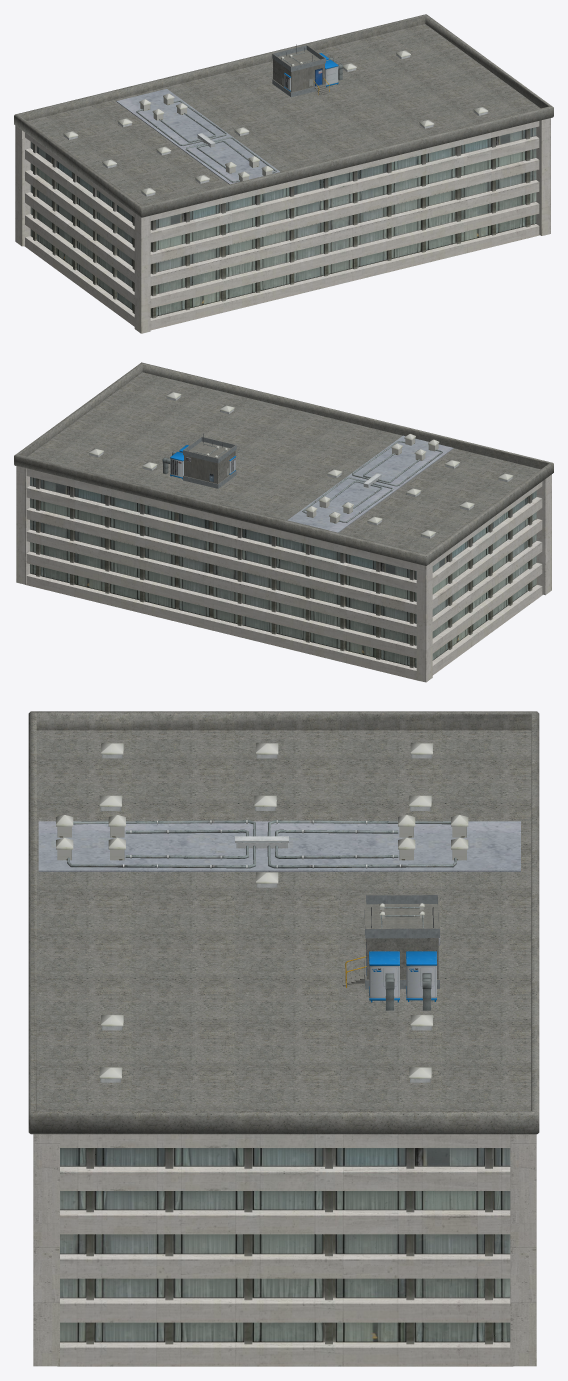
Rendered from u2NBuild6.gltf.
3 views of the same model, one above another, from view 1: azimuth 30°, elevation 25°; view 2: azimuth 150°, elevation 25°; view 3: azimuth 270°, elevation 25° (orthographic). The views are drawn at different scales.
Visible parts, largest first — view 1: u2NBuild6; view 2: u2NBuild6; view 3: u2NBuild6.
Boxes of the visible parts, bbox=[...] form: u2NBuild6: bbox=[14, 14, 553, 333]; u2NBuild6: bbox=[14, 362, 553, 682]; u2NBuild6: bbox=[28, 711, 539, 1366].
Size of the model in its own units: 21.47 by 7.7 by 11.49.
12 materials, 12 textured.
